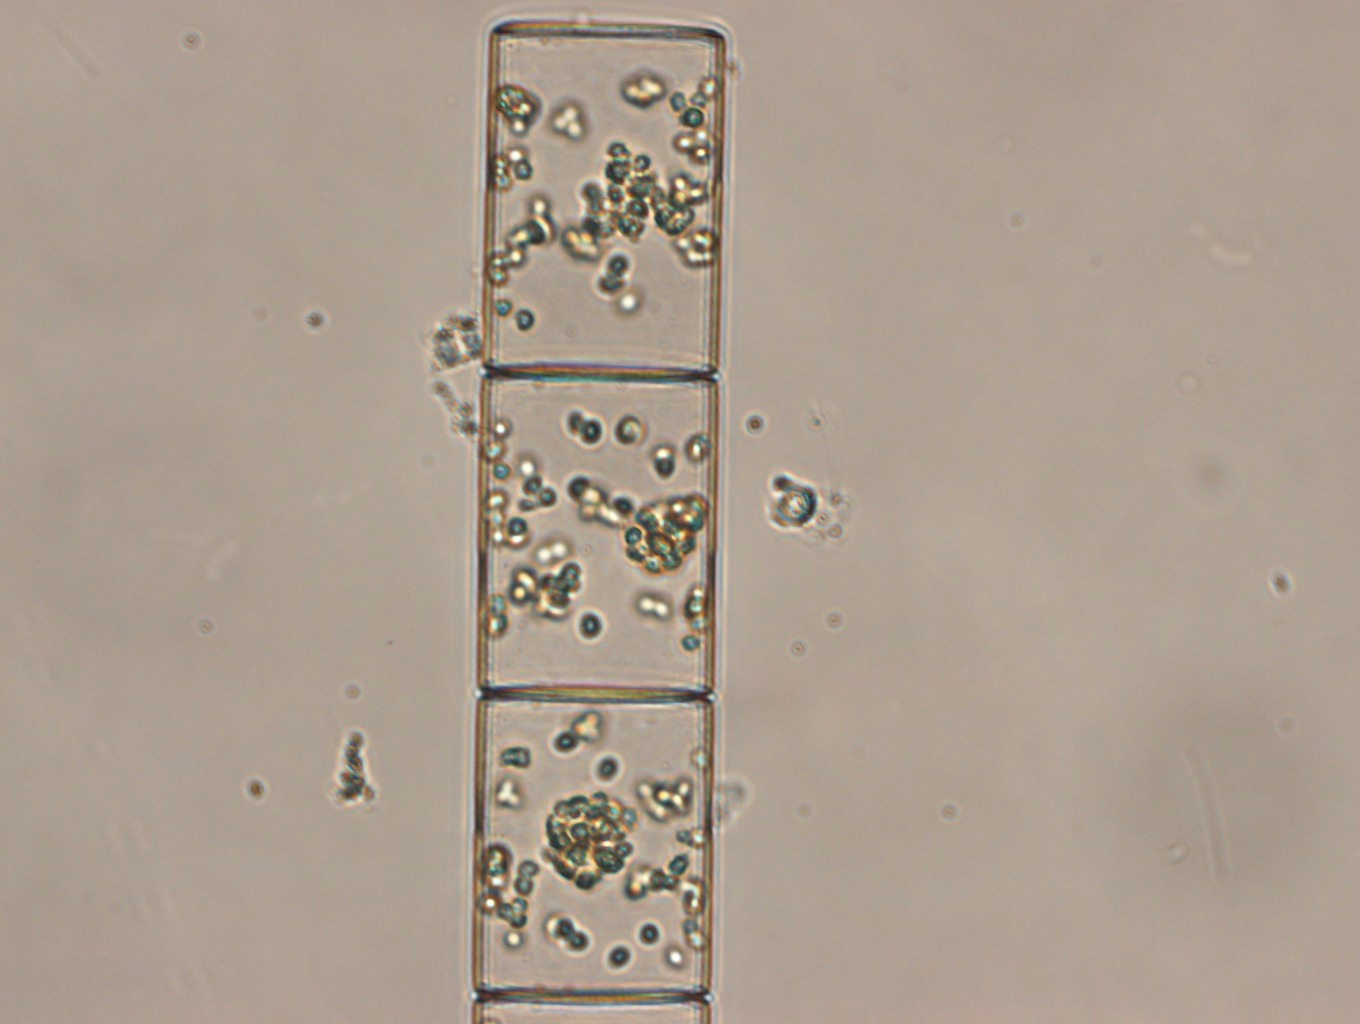guinardia flaccida: (469, 17, 727, 1024)
